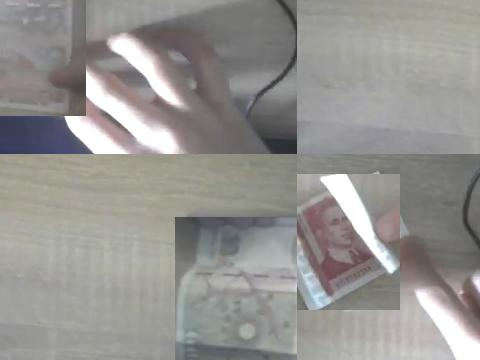10leva: (175, 217, 297, 360)
5leva: (297, 174, 400, 310)
